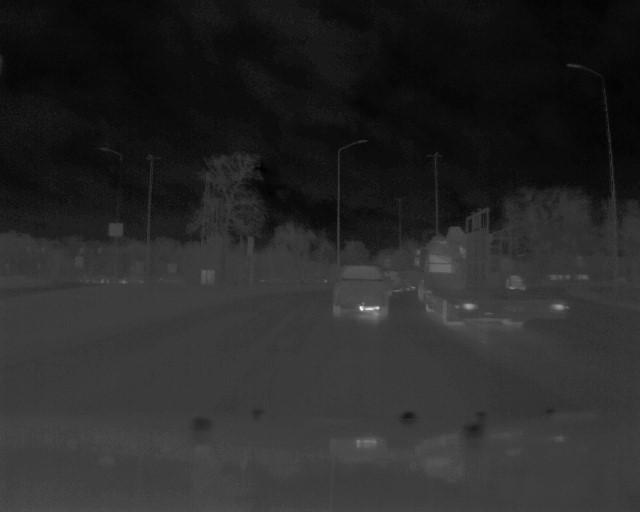car: (329, 260, 394, 316)
